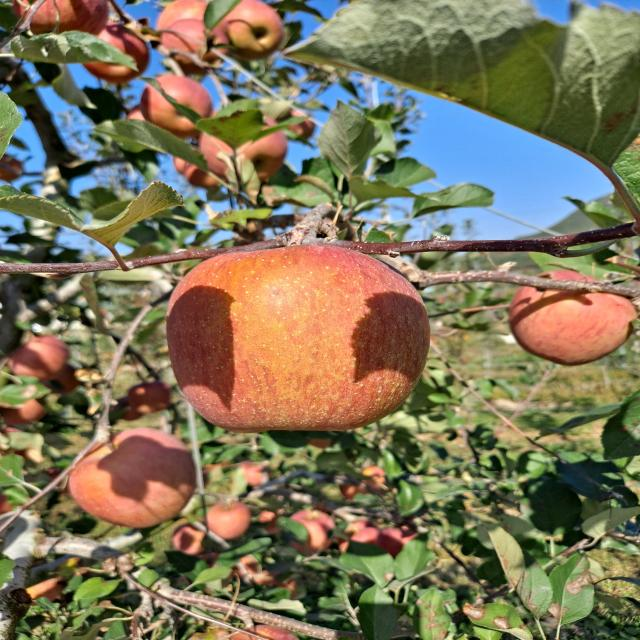fresh: (164, 240, 447, 442)
